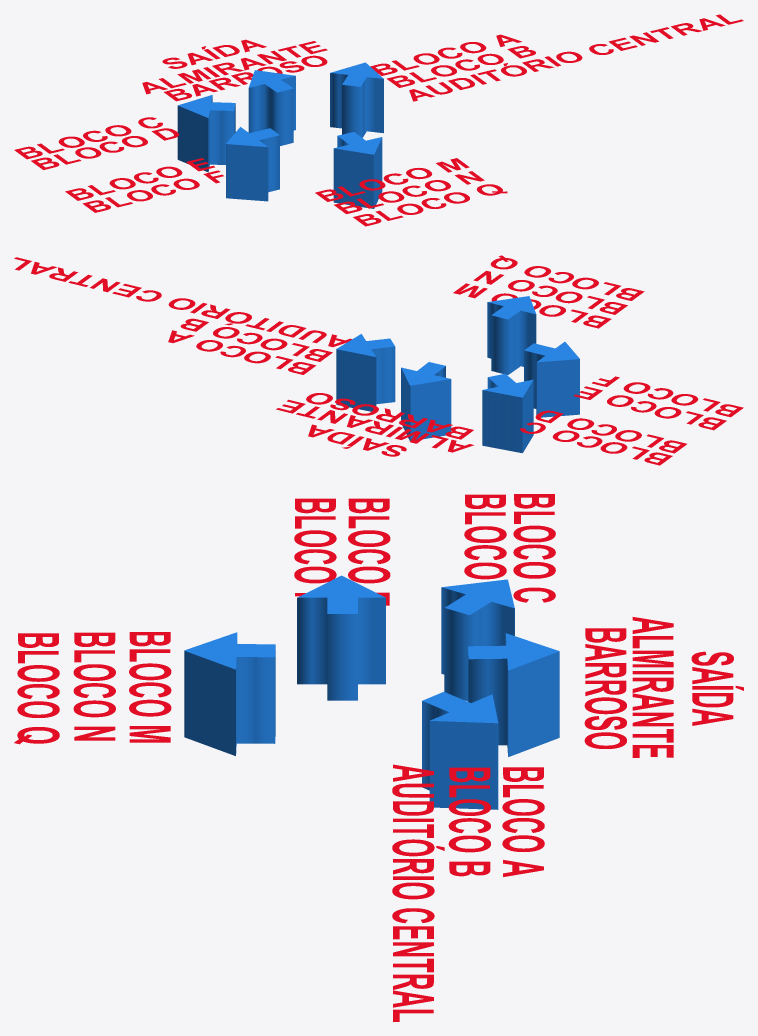
File: bloco H - 1.glb
3 views of the same model, one above another, from view 1: azimuth 30°, elevation 25°; view 2: azimuth 150°, elevation 25°; view 3: azimuth 270°, elevation 25° (orthographic). The views are drawn at different scales.
Visible parts, largest first — view 1: Curve.002, Curve.003, Curve.004, Curve.001, Curve.006, Text.010, Text.006, Text.005, Text.007, Text.013, Text.001, Text.014 (+6 smaller); view 2: Curve.004, Curve.003, Curve.002, Curve.001, Curve.006, Text.010, Text.006, Text.005, Text.001, Text.013, Text.014, Text.003 (+6 smaller); view 3: Curve.001, Curve.002, Curve.006, Curve.004, Curve.003, Text.010, Text.006, Text.005, Text.007, Text.013, Text.008, Text.001 (+6 smaller).
Boxes of the visible parts, x1,y1,x2,y2 form: Curve.002: [226, 127, 279, 201]; Curve.003: [177, 95, 235, 172]; Curve.004: [330, 62, 383, 137]; Curve.001: [333, 132, 382, 208]; Curve.006: [248, 70, 295, 145]; Text.010: [409, 14, 743, 101]; Text.006: [142, 41, 327, 94]; Text.005: [164, 55, 327, 101]; Text.007: [315, 158, 469, 201]; Text.013: [387, 46, 535, 87]; Text.001: [353, 184, 507, 226]; Text.014: [31, 128, 178, 169]; Curve.004: [336, 334, 395, 411]; Curve.003: [482, 373, 533, 453]; Curve.002: [524, 342, 579, 417]; Curve.001: [487, 296, 536, 374]; Curve.006: [401, 362, 451, 440]; Text.010: [14, 257, 351, 347]; Text.006: [276, 399, 473, 452]; Text.005: [306, 393, 473, 439]; Text.001: [490, 255, 644, 300]; Text.013: [180, 318, 332, 361]; Text.014: [535, 410, 686, 453]; Text.003: [574, 386, 726, 430]; Curve.001: [184, 632, 275, 755]; Curve.002: [297, 575, 385, 700]; Curve.006: [468, 633, 559, 756]; Curve.004: [422, 692, 498, 809]; Curve.003: [441, 579, 514, 701]; Text.010: [392, 764, 444, 1021]; Text.006: [632, 617, 673, 757]; Text.005: [584, 628, 626, 748]; Text.007: [129, 632, 171, 742]; Text.013: [448, 767, 490, 876]; Text.008: [73, 632, 115, 740]; Text.001: [14, 633, 59, 744].
Bounding box in the file's own units: 4.58 × 0.3608 × 2.67.
